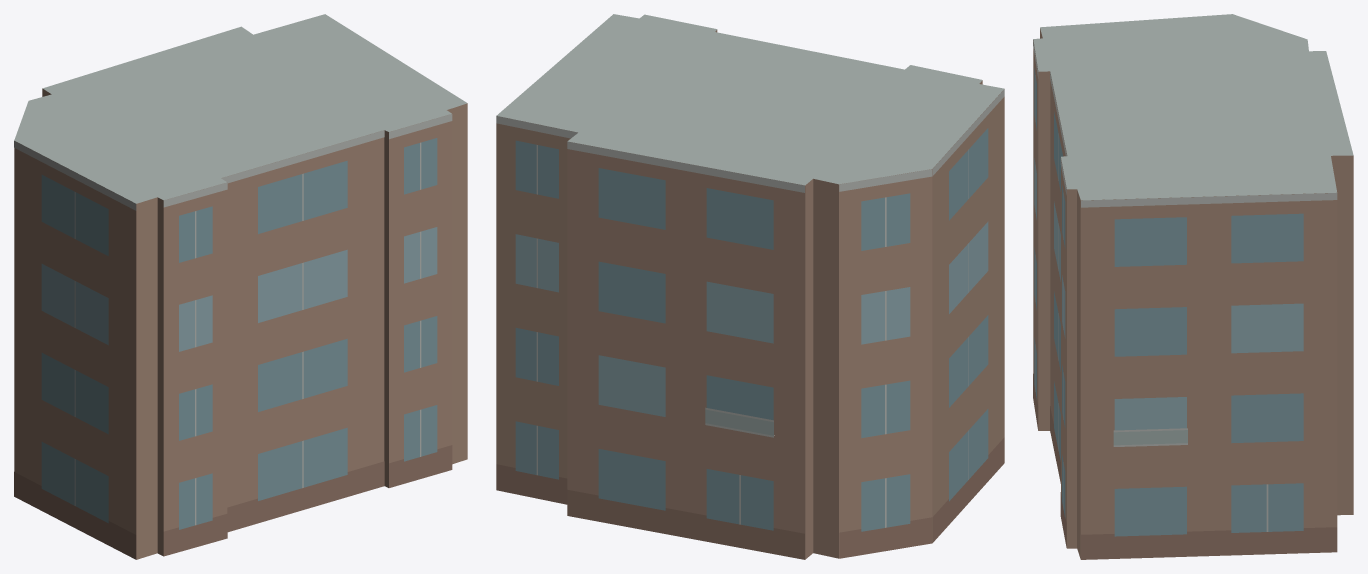
File: survey-upis-32750119.glb
The picture shows the model from 3 angles, left to right: view 1: azimuth 30°, elevation 25°; view 2: azimuth 150°, elevation 25°; view 3: azimuth 270°, elevation 25°; orthographic projection. The views are drawn at different scales.
Visible parts, largest first — view 1: survey-upis-32750119.tmp; view 2: survey-upis-32750119.tmp; view 3: survey-upis-32750119.tmp.
Boxes of the visible parts, box(x1,y1,x2,y2) form: survey-upis-32750119.tmp: box(14, 14, 467, 559); survey-upis-32750119.tmp: box(496, 14, 1004, 559); survey-upis-32750119.tmp: box(1033, 14, 1353, 559).
Size of the model in its own units: 13.41 by 12.05 by 9.74.
